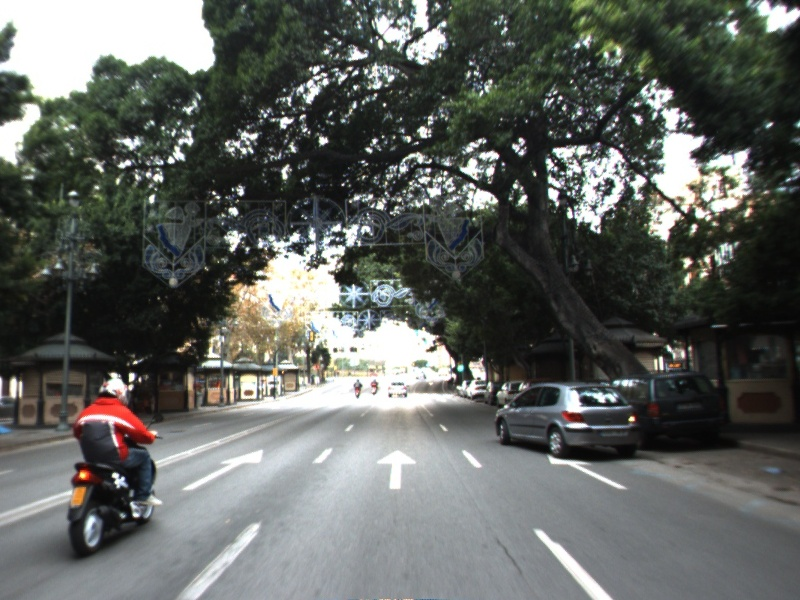STRAIGHT: (180, 447, 266, 493), (543, 450, 632, 491), (374, 448, 419, 491)
